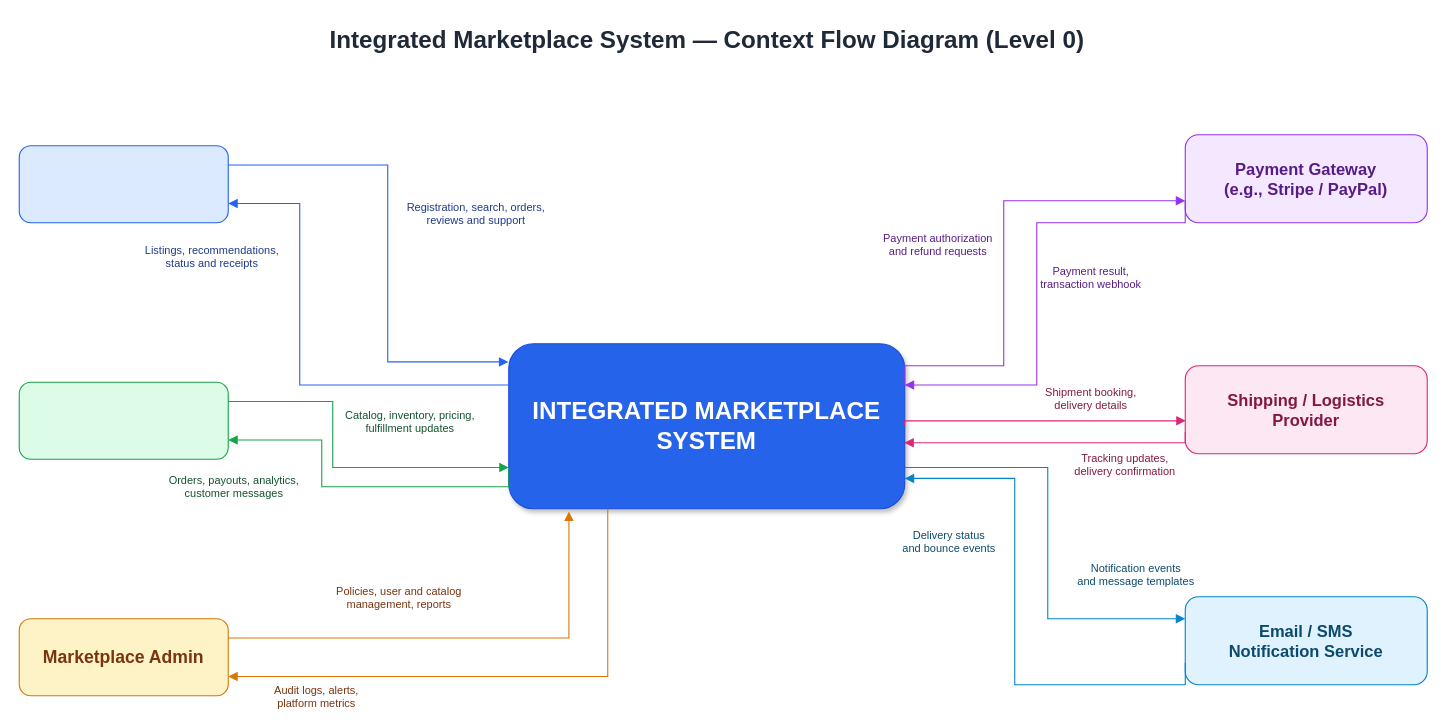
This 1447x728 diagram has some shape labels left out. Each missing label, with the centre of its shape:
Customer / Buyer: the point at 123,184
Seller / Merchant: the point at 123,420
